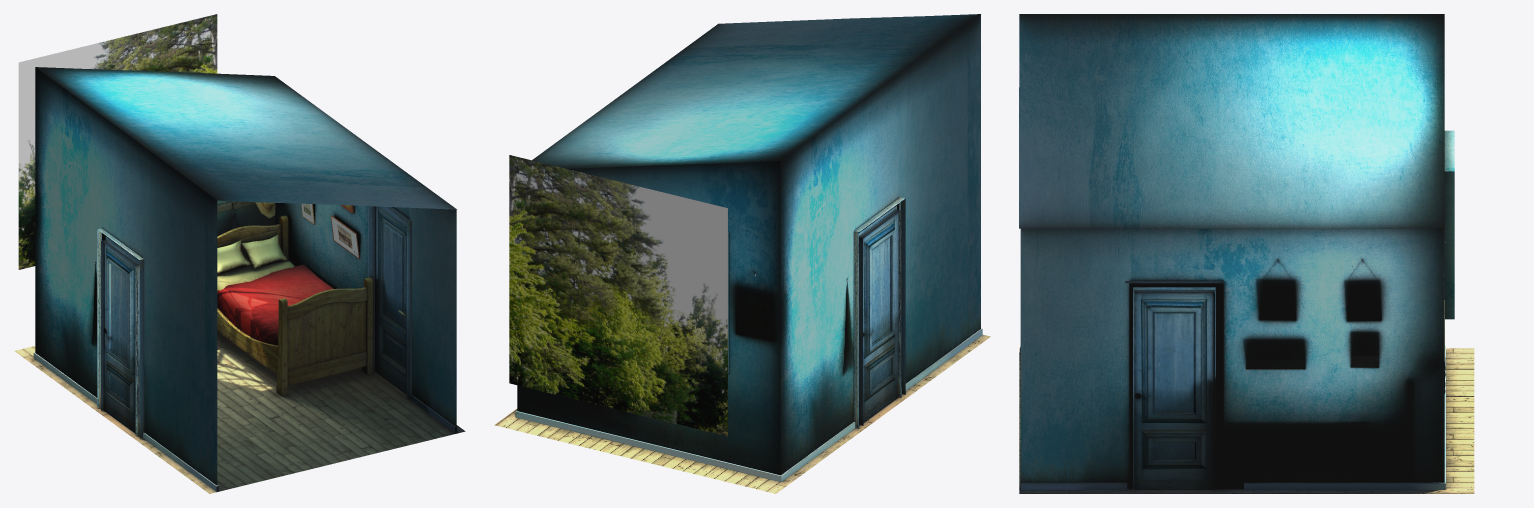
Rendered from vangogh_room.obj.
3 views of the same model, side by side, from view 1: azimuth 30°, elevation 25°; view 2: azimuth 150°, elevation 25°; view 3: azimuth 270°, elevation 25° (orthographic). The views are drawn at different scales.
Visible parts, largest first — view 1: walls, rest, FLOOR, Doors, bad, back, bad_for, wall_staff, veshalka; view 2: walls, back, rest, Doors, FLOOR; view 3: walls, rest, Doors, FLOOR.
Boxes of the visible parts, x1,y1,x2,y2 form: walls: [35, 67, 456, 490]; rest: [33, 67, 457, 491]; FLOOR: [14, 331, 465, 493]; Doors: [97, 206, 411, 438]; bad: [217, 215, 372, 395]; back: [18, 14, 217, 269]; bad_for: [217, 234, 333, 345]; wall_staff: [94, 203, 359, 264]; veshalka: [217, 201, 406, 316]; walls: [517, 15, 980, 475]; back: [509, 155, 727, 436]; rest: [515, 14, 982, 481]; Doors: [854, 197, 905, 428]; FLOOR: [494, 334, 990, 493]; walls: [1020, 130, 1454, 489]; rest: [1019, 14, 1445, 489]; Doors: [1125, 281, 1223, 489]; FLOOR: [1019, 348, 1474, 493].
Bounding box in the file's own units: 3.54 × 3.86 × 5.14.
Materials: 15 (15 with a texture image).
